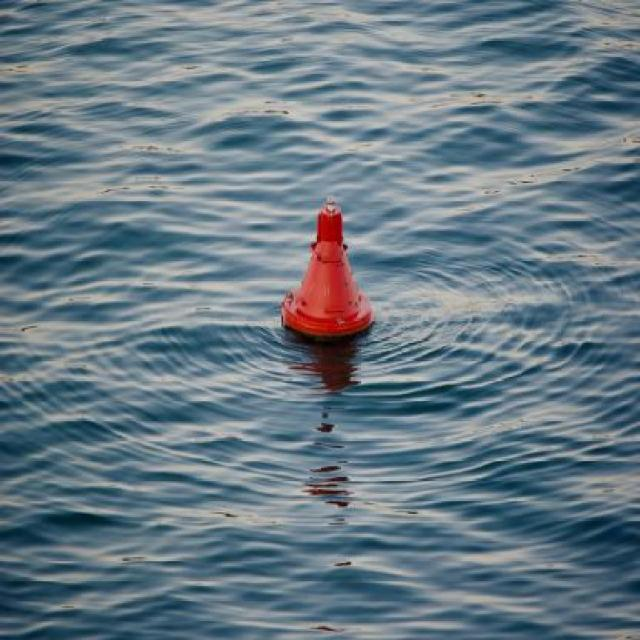a: (274, 187, 383, 349)
